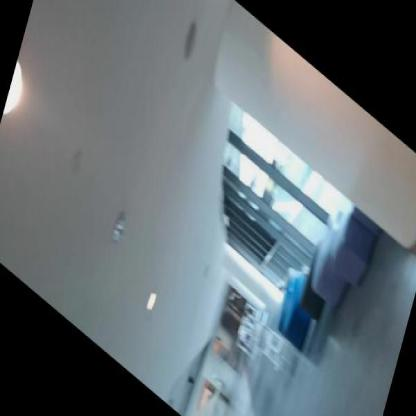light_on: (1, 56, 38, 138), (132, 269, 172, 337)
